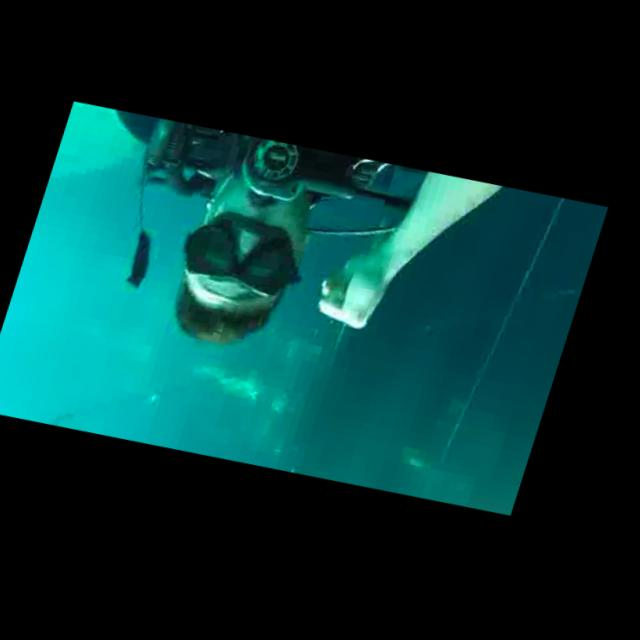human: (16, 90, 544, 412)
